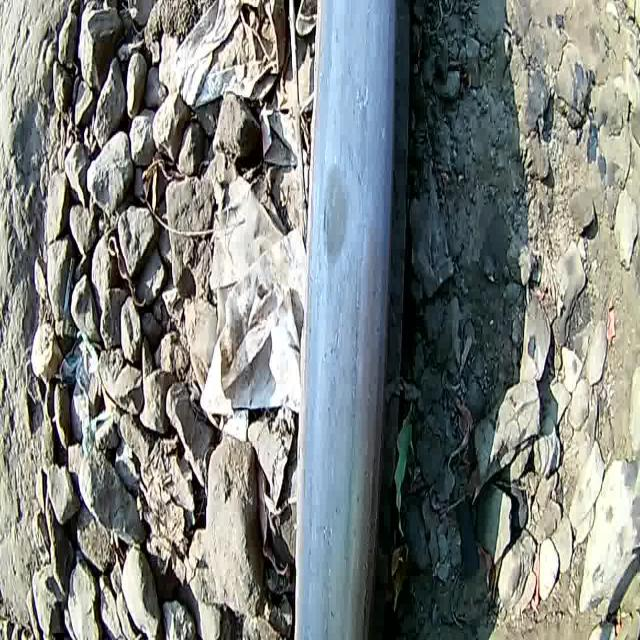Squats: (274, 0, 418, 640)
